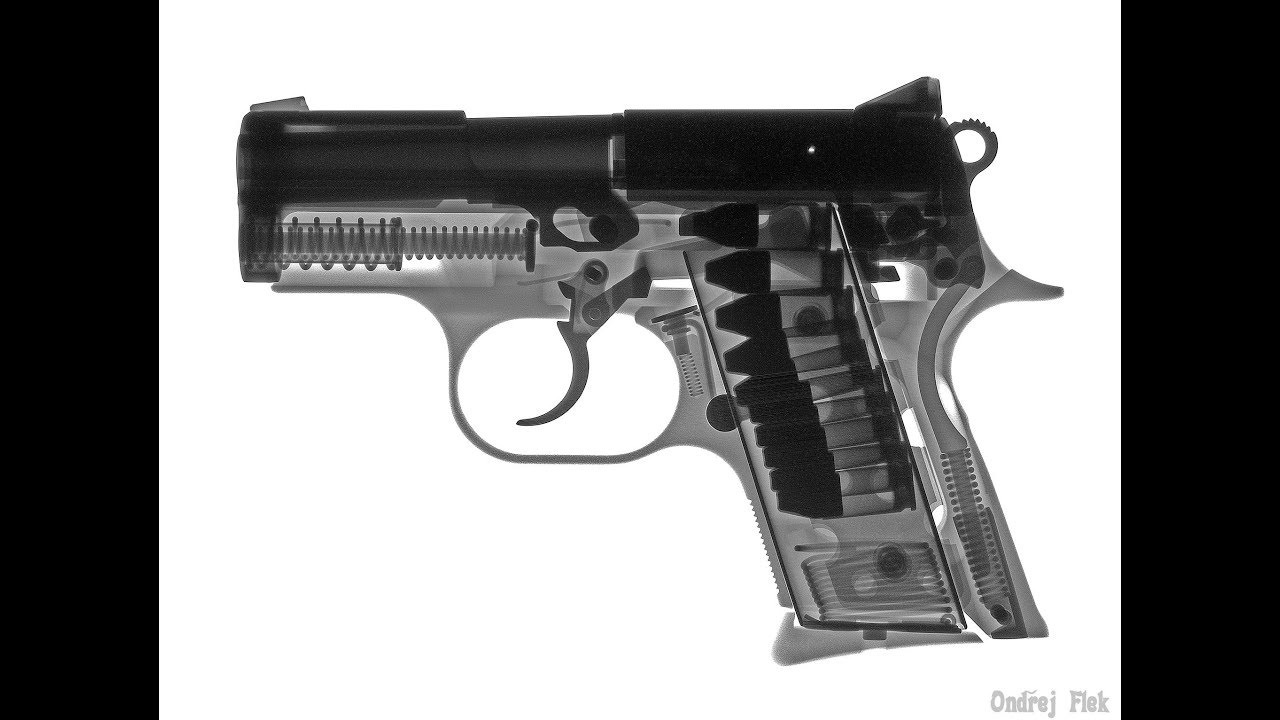gun: (221, 74, 1069, 672)
